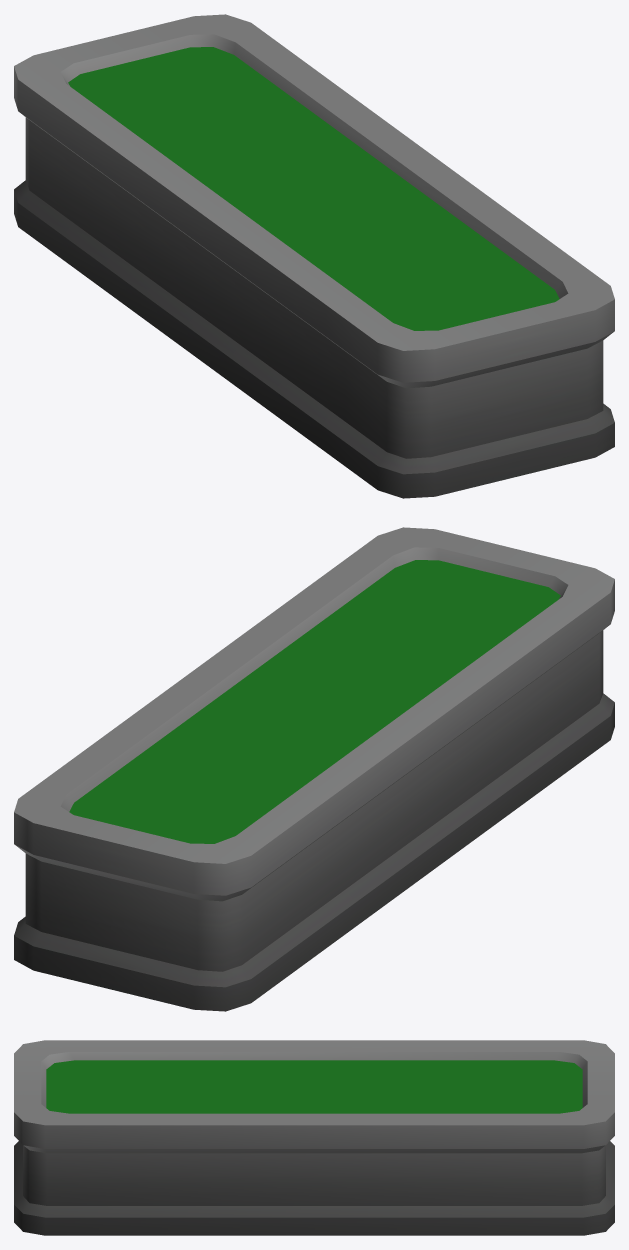
Rendered from FlowerPlacet_5_1_A.glb.
3 views of the same model, one above another, from view 1: azimuth 30°, elevation 25°; view 2: azimuth 150°, elevation 25°; view 3: azimuth 270°, elevation 25° (orthographic). The views are drawn at different scales.
Parts seen in each view (by area): view 1: FlowerPlacet_5_1_A; view 2: FlowerPlacet_5_1_A; view 3: FlowerPlacet_5_1_A.
Part boxes in pixels (box(x1,y1,x2,y2)): FlowerPlacet_5_1_A: box(14, 14, 614, 498); FlowerPlacet_5_1_A: box(14, 527, 614, 1011); FlowerPlacet_5_1_A: box(14, 1040, 614, 1235).
Bounding box in the file's own units: 1.43 × 0.8638 × 4.26.
1 material, 1 textured.
